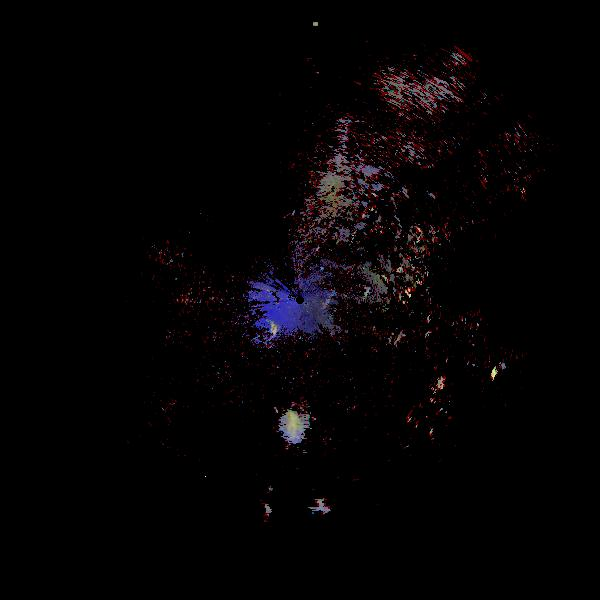roost: (281, 412, 311, 442), (307, 499, 328, 520), (263, 508, 269, 514)
